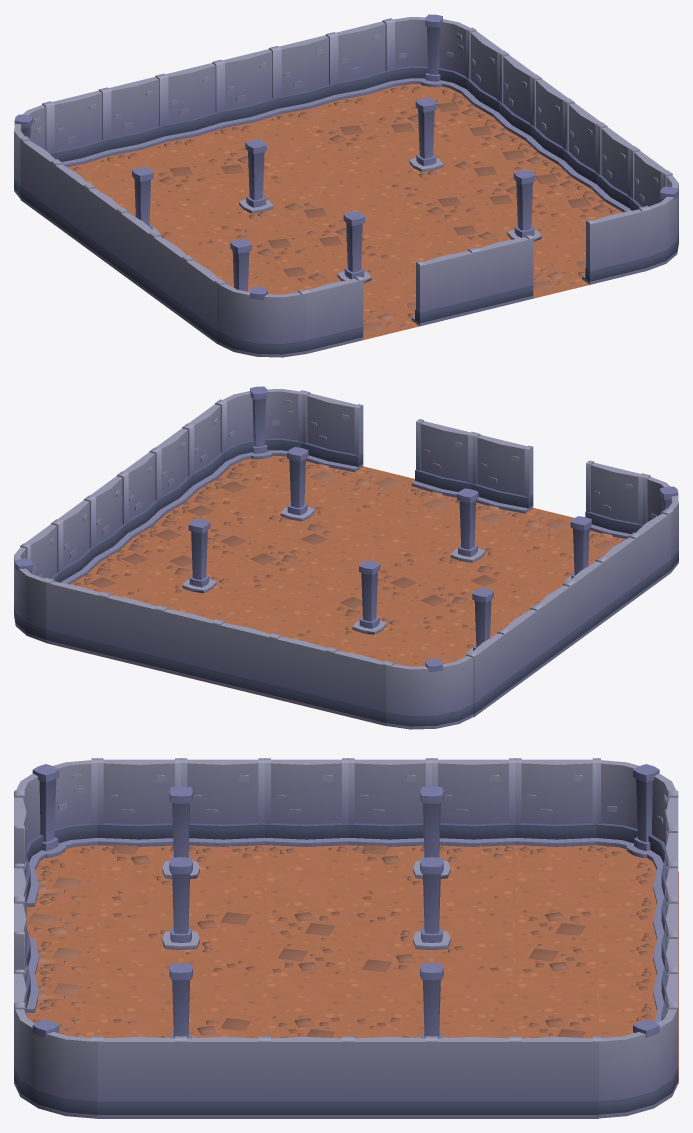
The model's file is x-large_room_2_opening.glb.
3 views of the same model, one above another, from view 1: azimuth 30°, elevation 25°; view 2: azimuth 150°, elevation 25°; view 3: azimuth 270°, elevation 25° (orthographic). The views are drawn at different scales.
Parts seen in each view (by area): view 1: template-floor-big.004, template-floor-big.003, template-corner.002, template-floor-big, template-floor-big.007, template-corner.003, template-wall.011, template-wall.009, template-wall.023, template-wall.025, template-wall.024, template-wall.007 (+48 smaller); view 2: template-floor-big.007, template-floor-big, template-floor-big.004, template-floor-big.003, template-corner.008, template-corner.005, template-wall.007, template-wall.026, template-wall.027, template-wall.006, template-wall.008, template-wall.025 (+41 smaller); view 3: template-floor-big, template-floor-big.003, template-floor-big.001, template-floor-big.002, template-corner.003, template-wall.003, template-corner.005, template-wall.016, template-corner.008, template-wall.015, template-wall.004, template-wall.031 (+44 smaller).
Boxes of the visible parts, box(x1,y1,x2,y2) form: template-floor-big.004: box(337, 97, 513, 202); template-floor-big.003: box(167, 139, 343, 242); template-corner.002: box(387, 14, 473, 101); template-floor-big: box(265, 211, 415, 307); template-floor-big.007: box(435, 169, 585, 266); template-corner.003: box(217, 281, 306, 357); template-wall.011: box(160, 60, 227, 145); template-wall.009: box(103, 74, 171, 158); template-wall.023: box(330, 19, 398, 103); template-wall.025: box(217, 47, 284, 131); template-wall.024: box(274, 33, 341, 117); template-wall.007: box(408, 248, 476, 326); template-floor-big.007: box(210, 447, 386, 551); template-floor-big: box(380, 488, 556, 591); template-floor-big.004: box(112, 518, 288, 622); template-floor-big.003: box(282, 560, 458, 663); template-corner.008: box(218, 386, 305, 476); template-corner.005: box(386, 654, 475, 729); template-wall.007: box(471, 432, 533, 517); template-wall.026: box(301, 391, 363, 476); template-wall.027: box(410, 419, 475, 503); template-wall.006: box(585, 460, 645, 541); template-wall.008: box(329, 648, 389, 725); template-wall.025: box(159, 606, 219, 684); template-floor-big: box(97, 857, 264, 977); template-floor-big.003: box(348, 857, 515, 977); template-floor-big.001: box(97, 786, 264, 906); template-floor-big.002: box(348, 786, 515, 906); template-corner.003: box(14, 758, 97, 871); template-wall.003: box(264, 758, 348, 853); template-corner.005: box(594, 758, 678, 871); template-wall.016: box(515, 758, 598, 853); template-corner.008: box(14, 1005, 97, 1118); template-wall.015: box(432, 758, 515, 853); template-wall.004: box(181, 758, 264, 853); template-wall.031: box(264, 1036, 348, 1118).
Bounding box in the file's own units: 32 × 4.23 × 31.83.
Materials: 22 (22 with a texture image).
